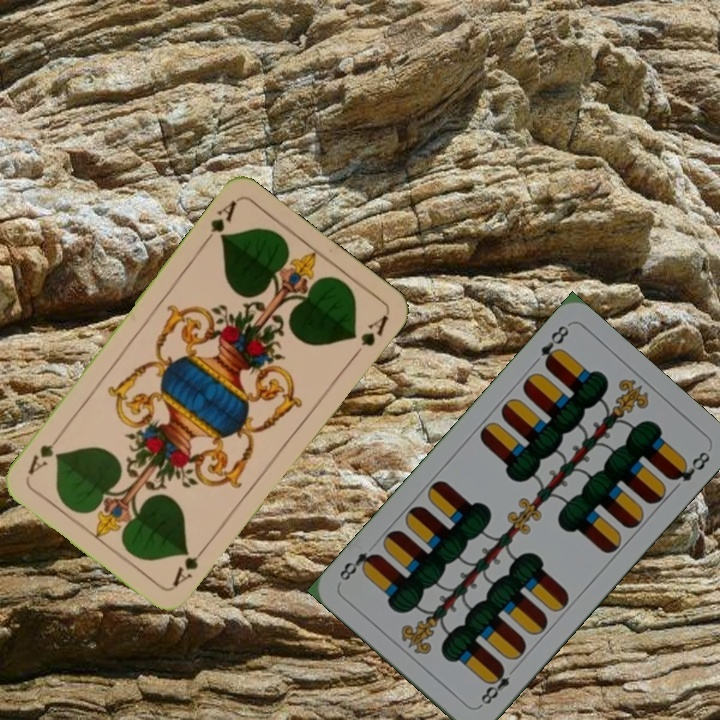E8: (475, 662, 520, 710), (536, 321, 572, 371)
GA: (198, 196, 240, 248), (168, 540, 211, 590)
